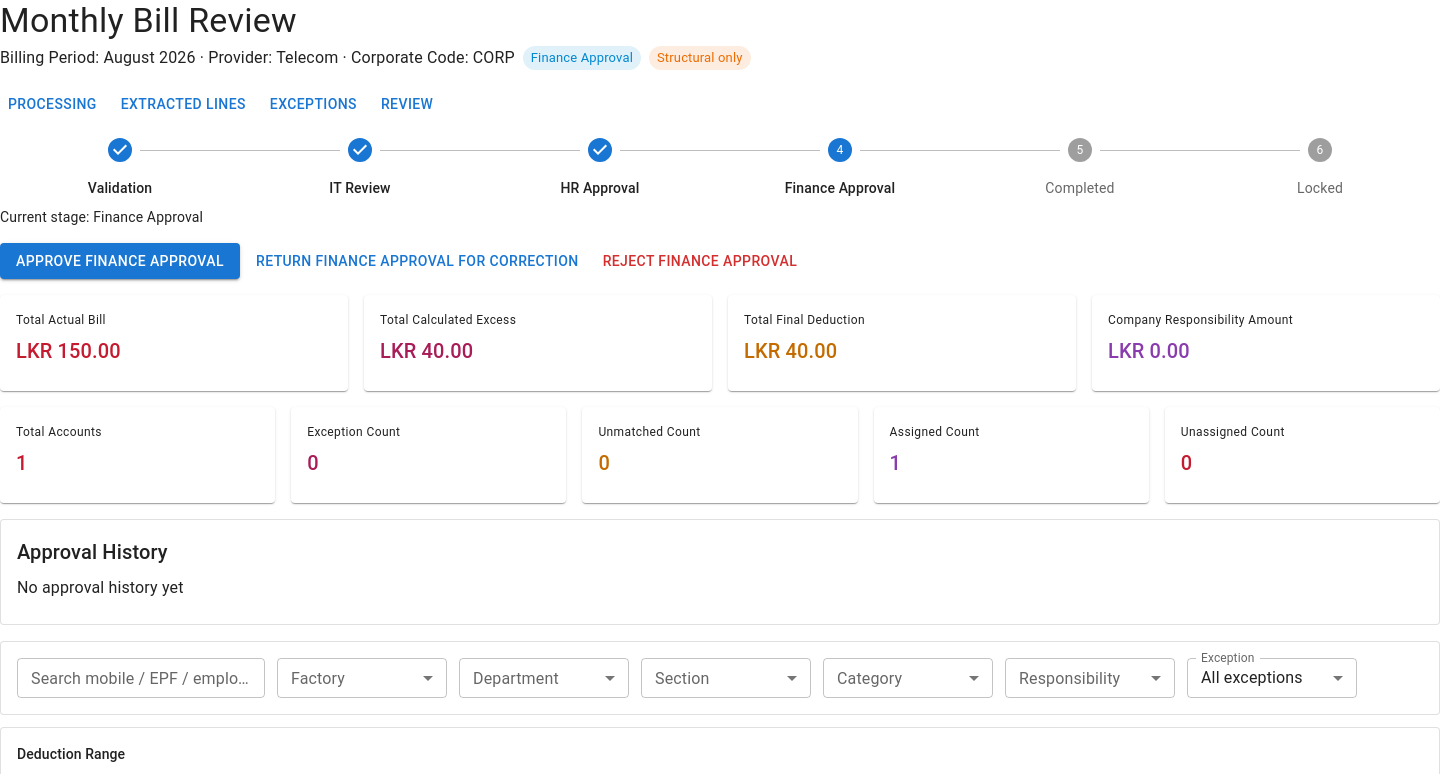
MonthlyBillReviewPage workflow and reporting › refetches Finance approval and displays Completed without locking it
Click the button "Approve Finance Approval" at (120, 261), box [0,242,240,279]
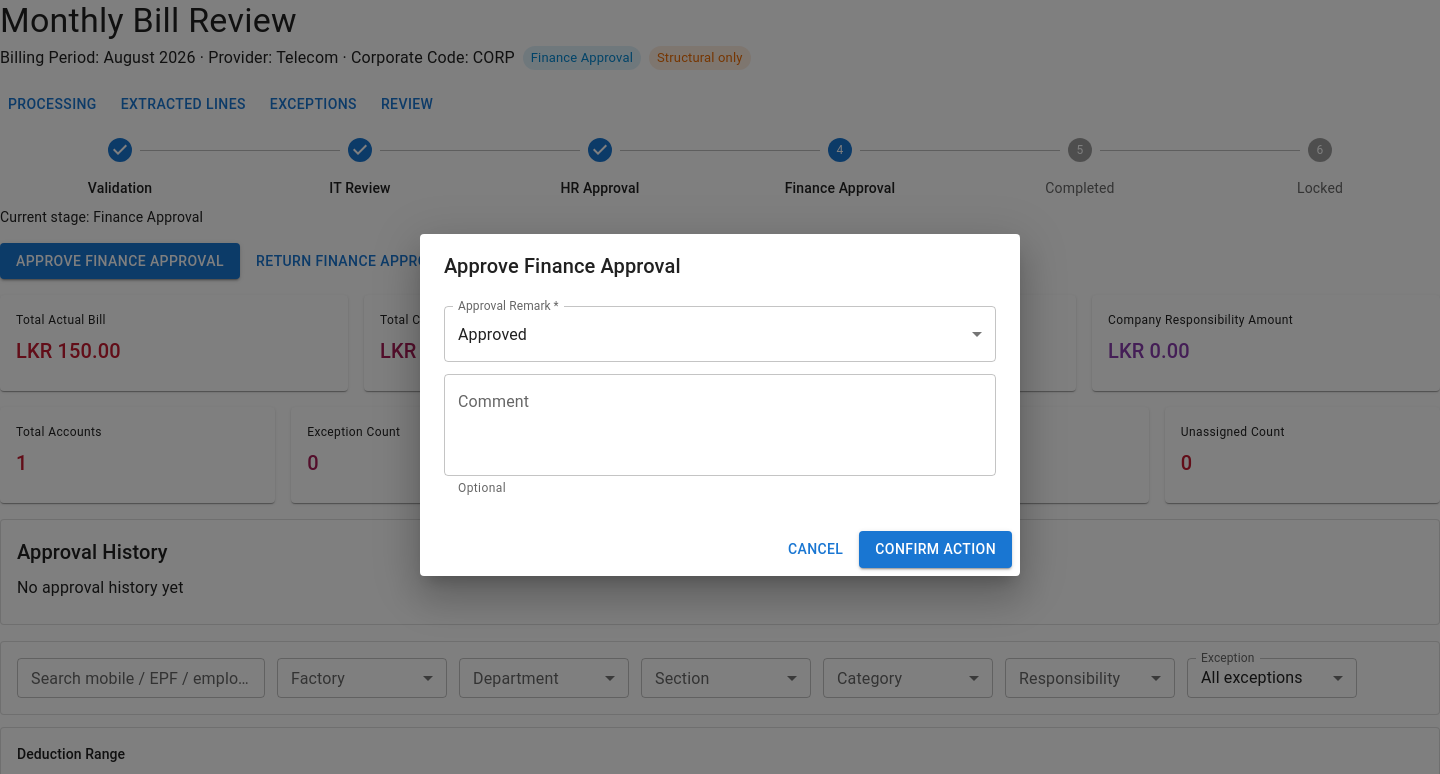
Click the button "Confirm Action" at (936, 549), box [859,531,1012,568]
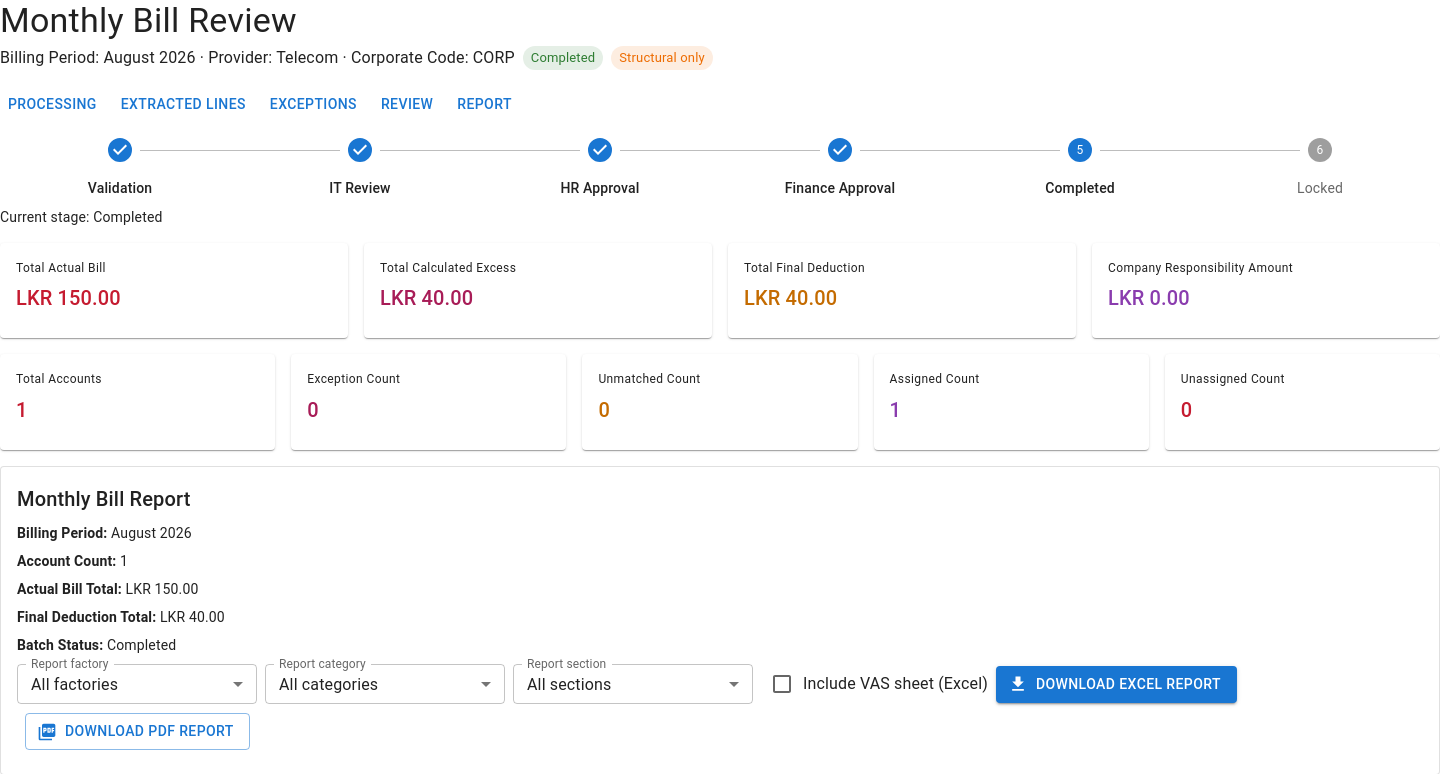
Expected: the text "Current stage: Completed" is shown, [0,208,162,224]
Expected: the text "Completed" next to "Structural only" is shown, [531,50,595,65]
